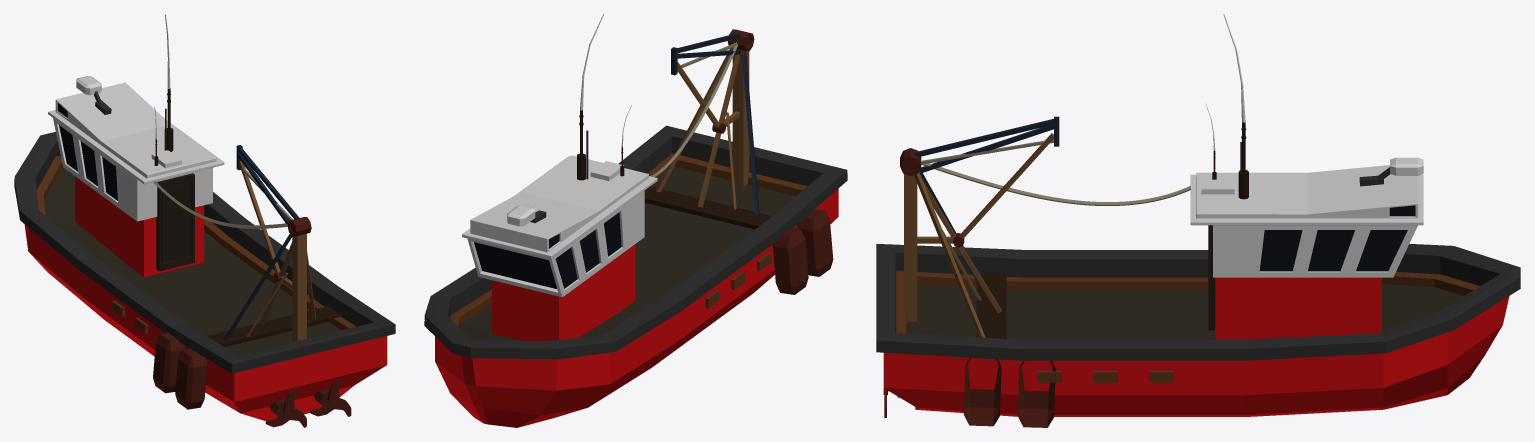
File: boat.obj
The picture shows the model from 3 angles, left to right: view 1: azimuth 30°, elevation 25°; view 2: azimuth 150°, elevation 25°; view 3: azimuth 270°, elevation 25°; orthographic projection. The views are drawn at different scales.
Parts seen in each view (by area): view 1: Cube; view 2: Cube; view 3: Cube.
Part boxes in pixels (x1,y1,x2,y2): Cube: [14, 14, 395, 427]; Cube: [424, 14, 847, 427]; Cube: [876, 14, 1520, 427].
Size of the model in its own units: 3.3 by 5.08 by 7.73.
